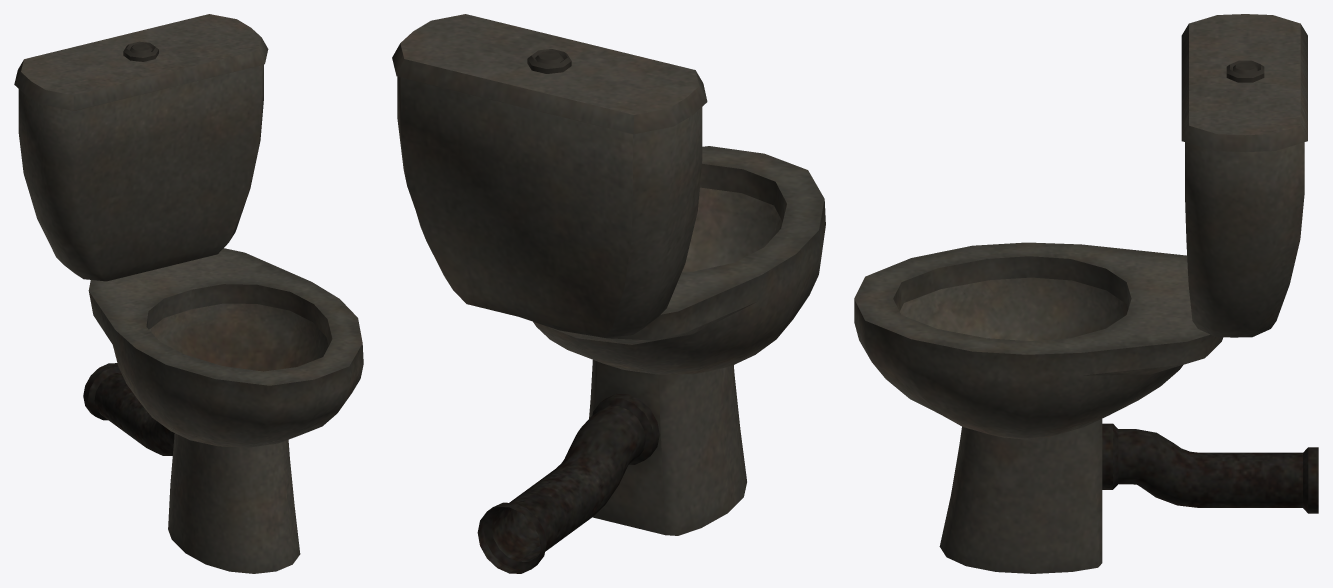
The model's file is test-toilet.obj.
The picture shows the model from 3 angles, left to right: view 1: azimuth 30°, elevation 25°; view 2: azimuth 150°, elevation 25°; view 3: azimuth 270°, elevation 25°; orthographic projection. The views are drawn at different scales.
Parts seen in each view (by area): view 1: toilet_mp_1; view 2: toilet_mp_1; view 3: toilet_mp_1.
Boxes of the visible parts, bbox=[...] form: toilet_mp_1: bbox=[14, 14, 363, 573]; toilet_mp_1: bbox=[392, 14, 825, 573]; toilet_mp_1: bbox=[854, 14, 1318, 573].
Bounding box in the file's own units: 0.5728 × 1.01 × 0.8822.
Materials: 1 (1 with a texture image).
